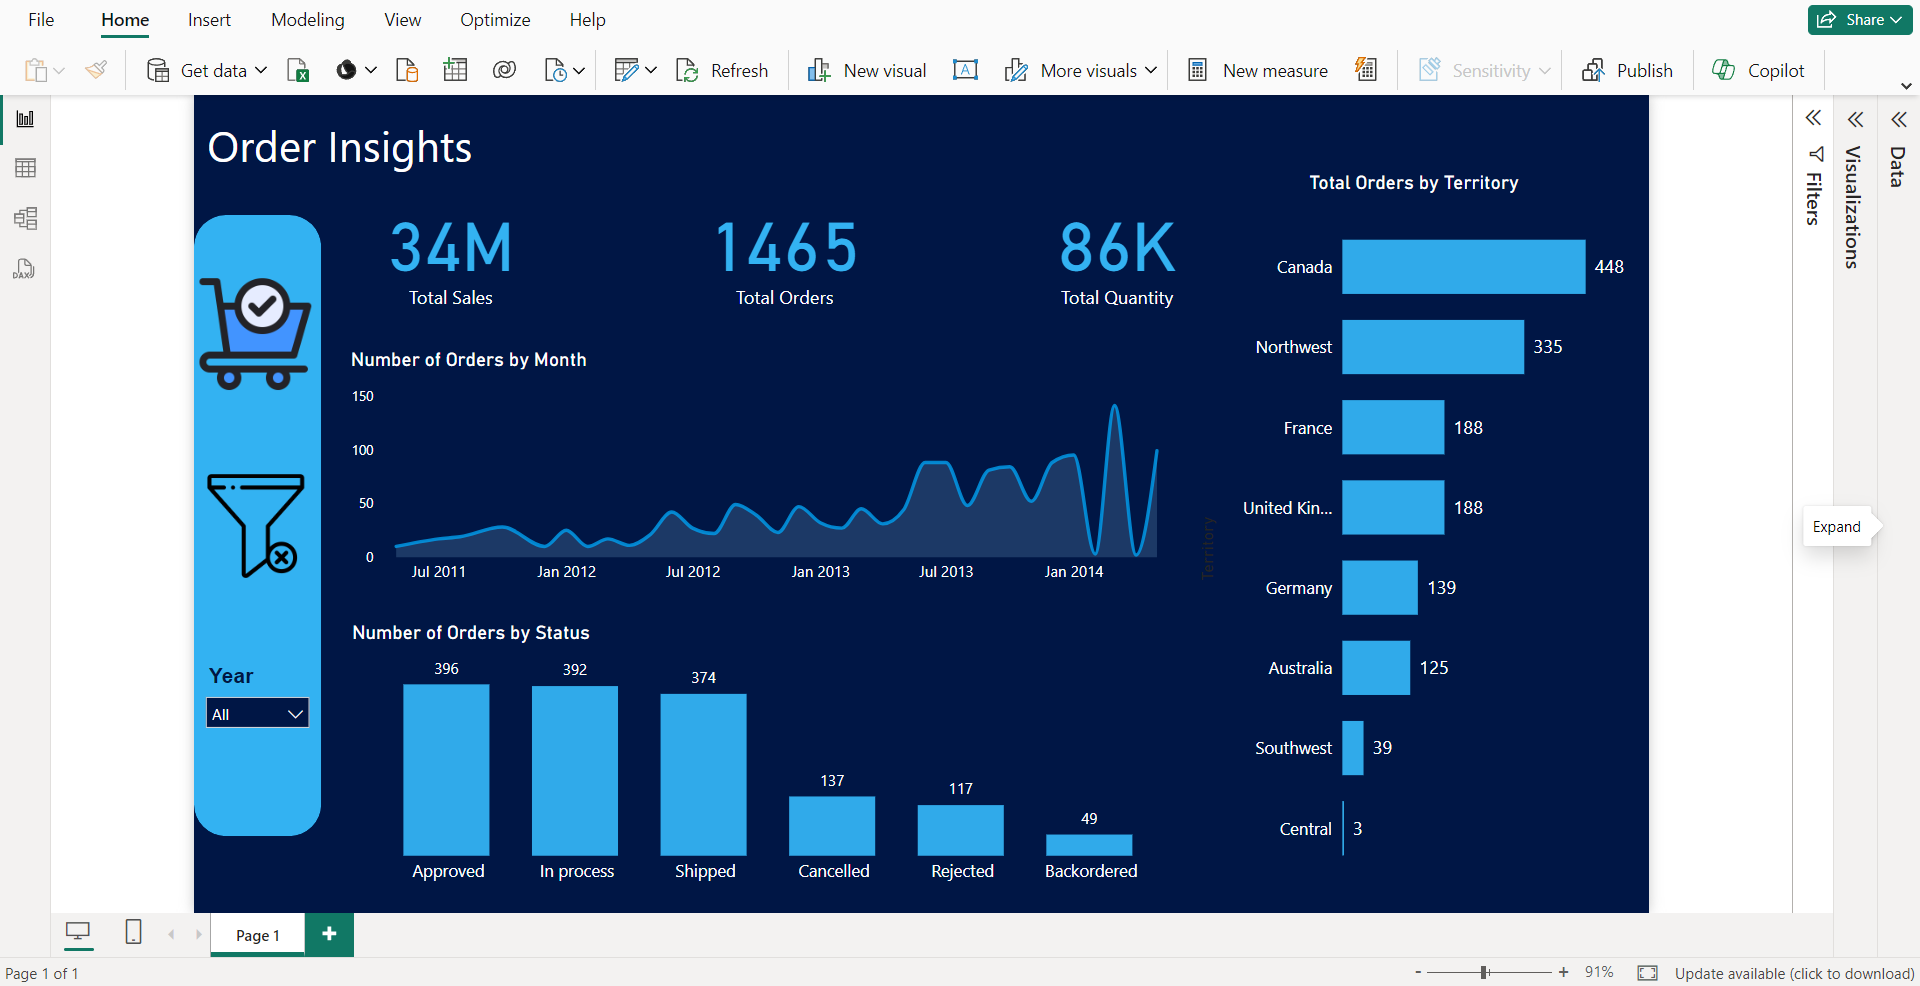

Layout of this report page (visuals, bound fields, positions):
{"tool":"powerbi","page":{"name":"Page 1","canvas":[1280,720],"ordinal":0},"visuals":[{"type":"shape","box":[0,106,111.9,546.4],"z":0,"group":"g1"},{"type":"stackedAreaChart","title":"Number of Orders by Month","fields":{"Category":["DIM| Date.Date.Variation.Date Hierarchy.Year","DIM| Date.Date.Variation.Date Hierarchy.Month"],"Y":["FACT| Sales.Total Orders"]},"box":[133.1,222.6,745.2,216.7],"z":0},{"type":"columnChart","title":"Number of Orders by Status","fields":{"Category":["DIM| Status.Status"],"Y":["FACT| Sales.Total Orders"]},"box":[134.5,463.1,745.2,240.5],"z":1000},{"type":"clusteredBarChart","title":"Total Orders by Territory","fields":{"Category":["DIM| Territory.Territory"],"Y":["FACT| Sales.Total Orders"]},"box":[878.6,66.7,389.3,636.9],"z":2000},{"type":"textbox","box":[7.1,14.3,254.8,73.8],"z":3000},{"type":"card","fields":{"Values":["FACT| Sales.Total Due Amount"]},"box":[134.5,66.5,184.1,140.5],"z":4000,"group":"g2"},{"type":"group","id":"g1","title":"Group 1","box":[0,106,111.9,546.4],"z":4000},{"type":"group","id":"g2","title":"Group 2","box":[134.5,66.5,770.2,140.5],"z":5000},{"type":"card","fields":{"Values":["FACT| Sales.Total Orders"]},"box":[427.6,66.5,184.1,140.5],"z":5000,"group":"g2"},{"type":"card","fields":{"Values":["FACT| Sales.Total Quantity"]},"box":[720.6,66.5,184.1,140.5],"z":6000,"group":"g2"},{"type":"slicer","fields":{"Values":["DIM| Date.Year"]},"box":[0,496.7,111.9,117.5],"z":8000,"group":"g1"},{"type":"image","box":[0,329.4,108.3,100.9],"z":9000,"group":"g1"},{"type":"image","box":[0,154.5,108.3,112.4],"z":10000,"group":"g1"}]}

Visuals, with their boxes in screenshot pixels (x1, y1, x2, y2):
shape: left=185, top=138, right=331, bottom=849
"Number of Orders by Month" stackedAreaChart: left=358, top=290, right=1328, bottom=572
"Number of Orders by Status" columnChart: left=360, top=603, right=1330, bottom=916
"Total Orders by Territory" clusteredBarChart: left=1328, top=87, right=1835, bottom=916
textbox: left=194, top=19, right=526, bottom=115
card - FACT| Sales.Total Due Amount: left=360, top=87, right=600, bottom=269
"Group 1" group: left=185, top=138, right=331, bottom=849
"Group 2" group: left=360, top=87, right=1362, bottom=269
card - FACT| Sales.Total Orders: left=741, top=87, right=981, bottom=269
card - FACT| Sales.Total Quantity: left=1123, top=87, right=1362, bottom=269
slicer - DIM| Date.Year: left=185, top=646, right=331, bottom=799
image: left=185, top=429, right=326, bottom=560
image: left=185, top=201, right=326, bottom=347
